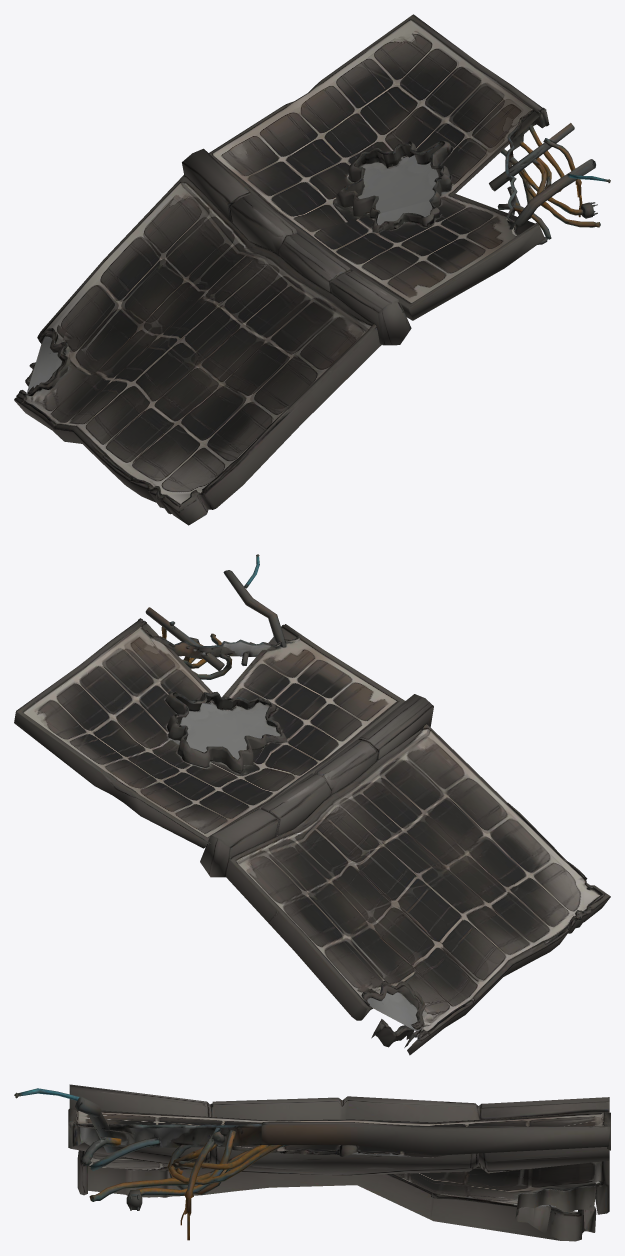
The model's file is original_glb.glb.
3 views of the same model, one above another, from view 1: azimuth 30°, elevation 25°; view 2: azimuth 150°, elevation 25°; view 3: azimuth 270°, elevation 25° (orthographic). The views are drawn at different scales.
Visible parts, largest first — view 1: Torn Solar Array; view 2: Torn Solar Array; view 3: Torn Solar Array.
Boxes of the visible parts, box(x1,y1,x2,y2) form: Torn Solar Array: box(14, 14, 610, 525); Torn Solar Array: box(14, 554, 610, 1055); Torn Solar Array: box(14, 1084, 610, 1241).
Size of the model in its own units: 0.998 by 0.627 by 0.8809.
1 material, 1 textured.
